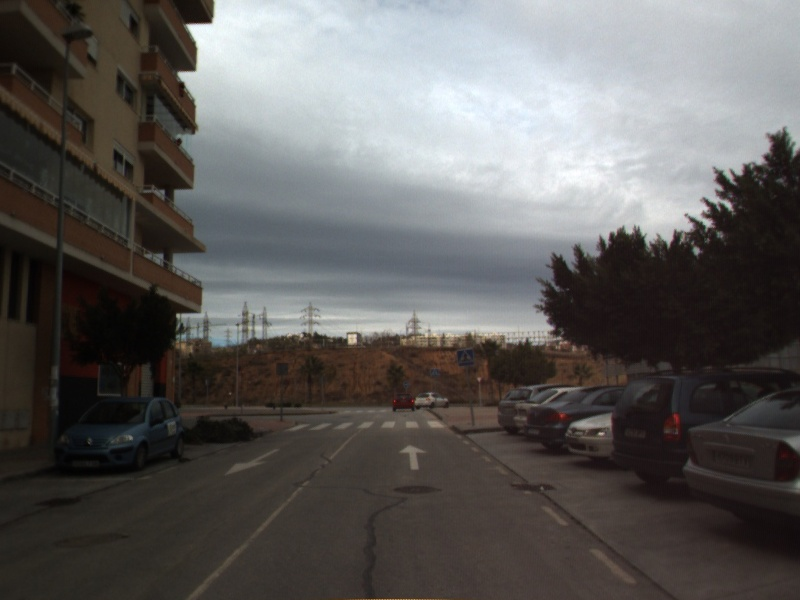STRAIGHT: (397, 442, 430, 472)
